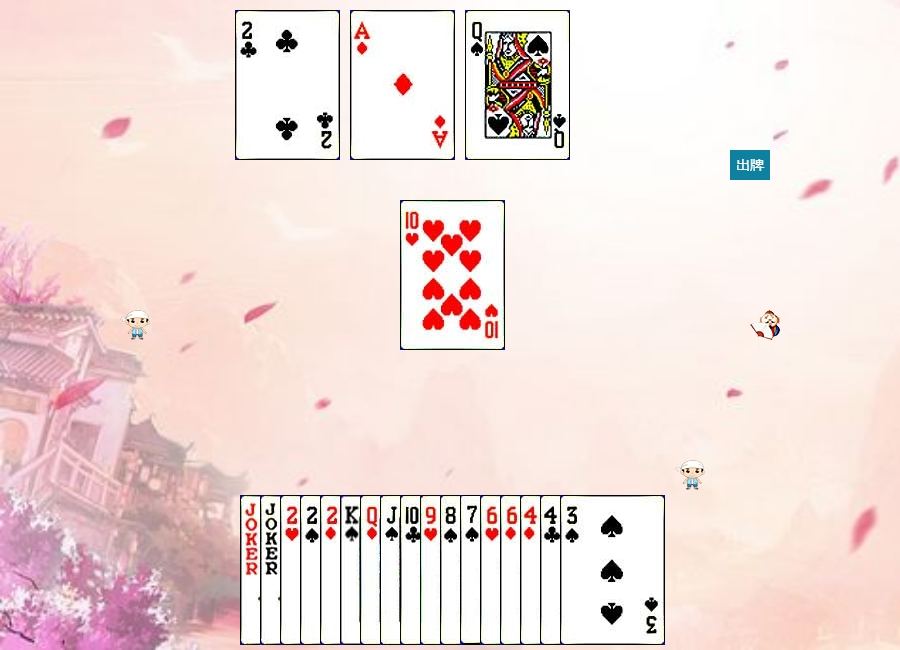10~2: (400, 495, 505, 645)
10~3: (400, 200, 505, 350)
11~4: (380, 495, 485, 645)
12~1: (360, 495, 465, 645)
12~4: (465, 10, 570, 160)
13~4: (340, 495, 445, 645)
14~1: (350, 10, 455, 160)
15~1: (320, 495, 425, 645)
15~2: (235, 10, 340, 160)
15~3: (280, 495, 385, 645)
15~4: (300, 495, 405, 645)
17~3: (260, 495, 365, 645)
18~4: (240, 495, 345, 645)
3~4: (560, 495, 665, 645)
4~1: (520, 495, 625, 645)
4~2: (540, 495, 645, 645)
6~1: (500, 495, 605, 645)
6~3: (480, 495, 585, 645)
7~4: (460, 495, 565, 645)
8~4: (440, 495, 545, 645)
9~3: (420, 495, 525, 645)
